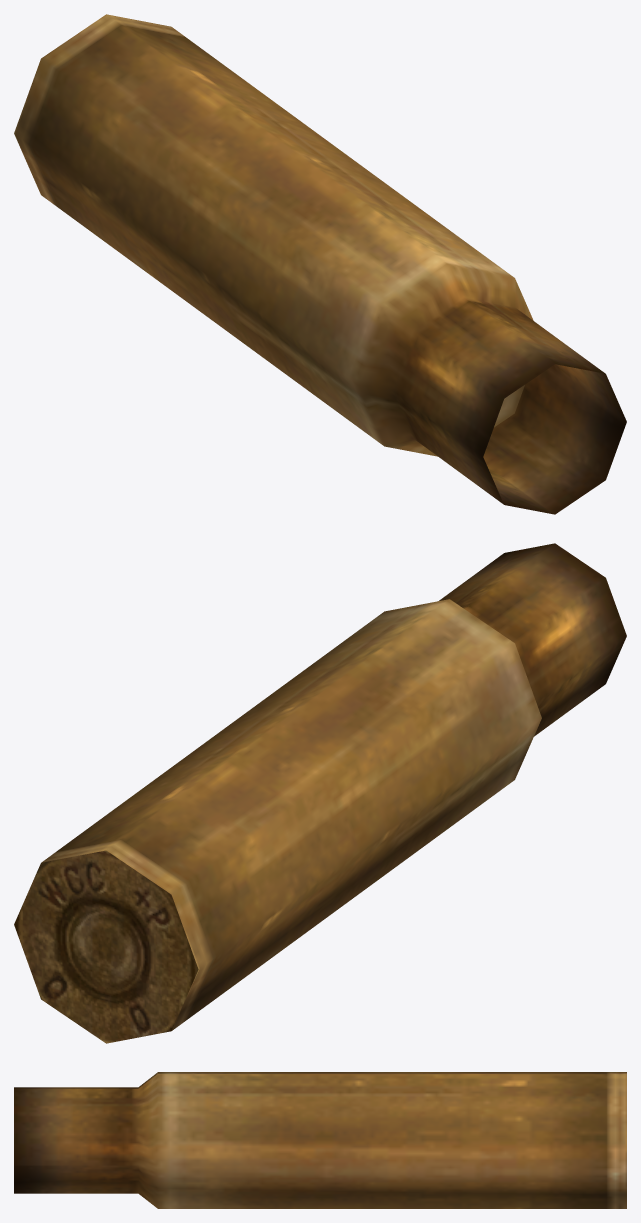
File: casing.dae
3 views of the same model, one above another, from view 1: azimuth 30°, elevation 25°; view 2: azimuth 150°, elevation 25°; view 3: azimuth 270°, elevation 25° (orthographic). The views are drawn at different scales.
Parts seen in each view (by area): view 1: casing; view 2: casing; view 3: casing.
Boxes of the visible parts, x1,y1,x2,y2 form: casing: (14, 14, 626, 514); casing: (14, 543, 626, 1043); casing: (14, 1072, 626, 1208).
Bounding box in the file's own units: 0.18 × 0.18 × 0.758.
